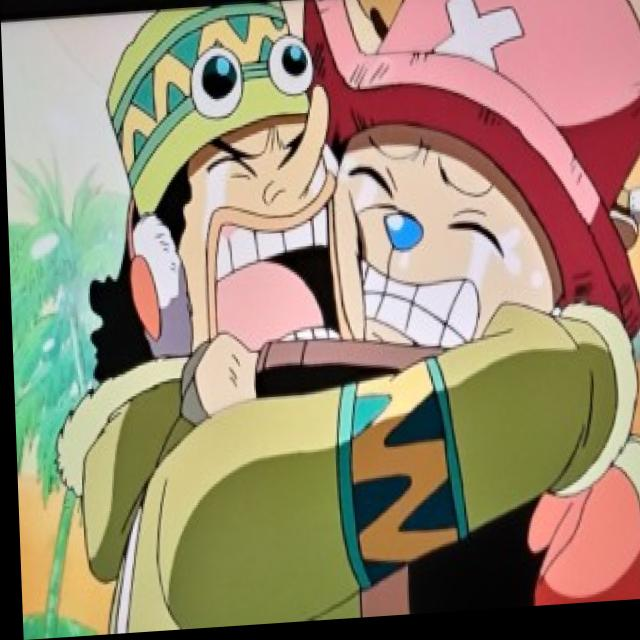Chyopa: (318, 0, 640, 382)
Usopp: (84, 0, 357, 400)
